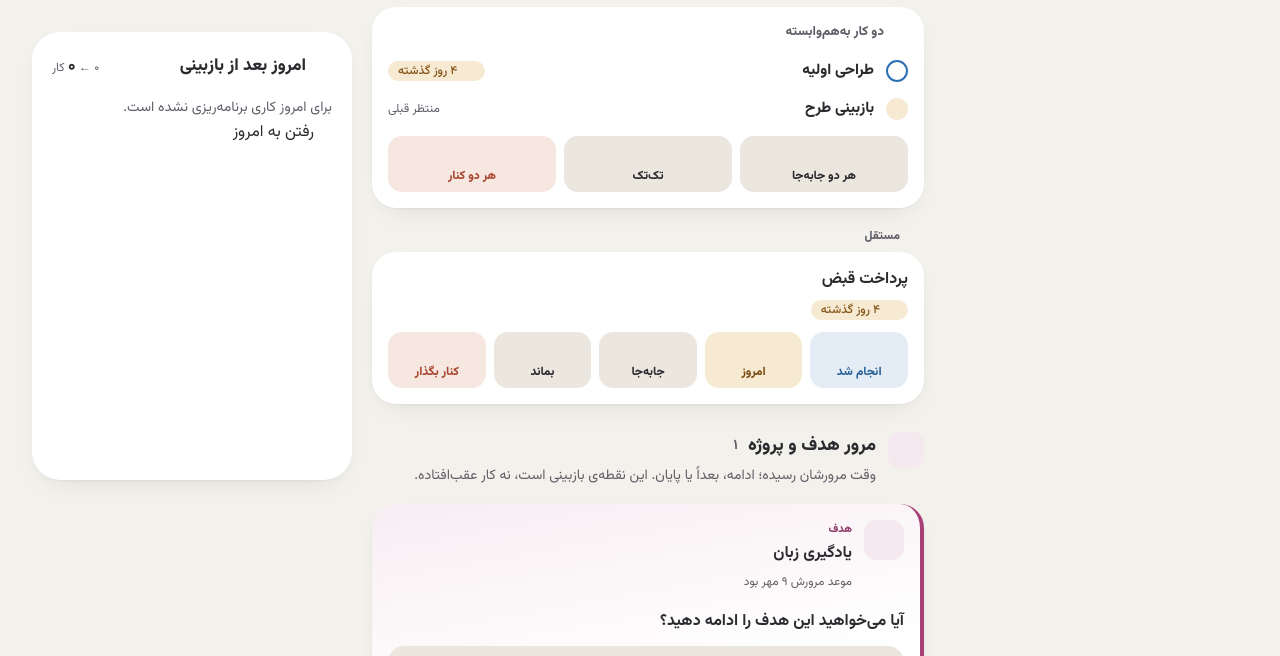
Test: ReconcilePage › applies «انجام شد» and «امروز» on the tap, keeps the item in place with its undo, and takes it back
(page scrolled)
Click the button with aria-label "انجام شد: پرداخت قبض". click: (859, 360)
box: left=810, top=332, right=908, bottom=388
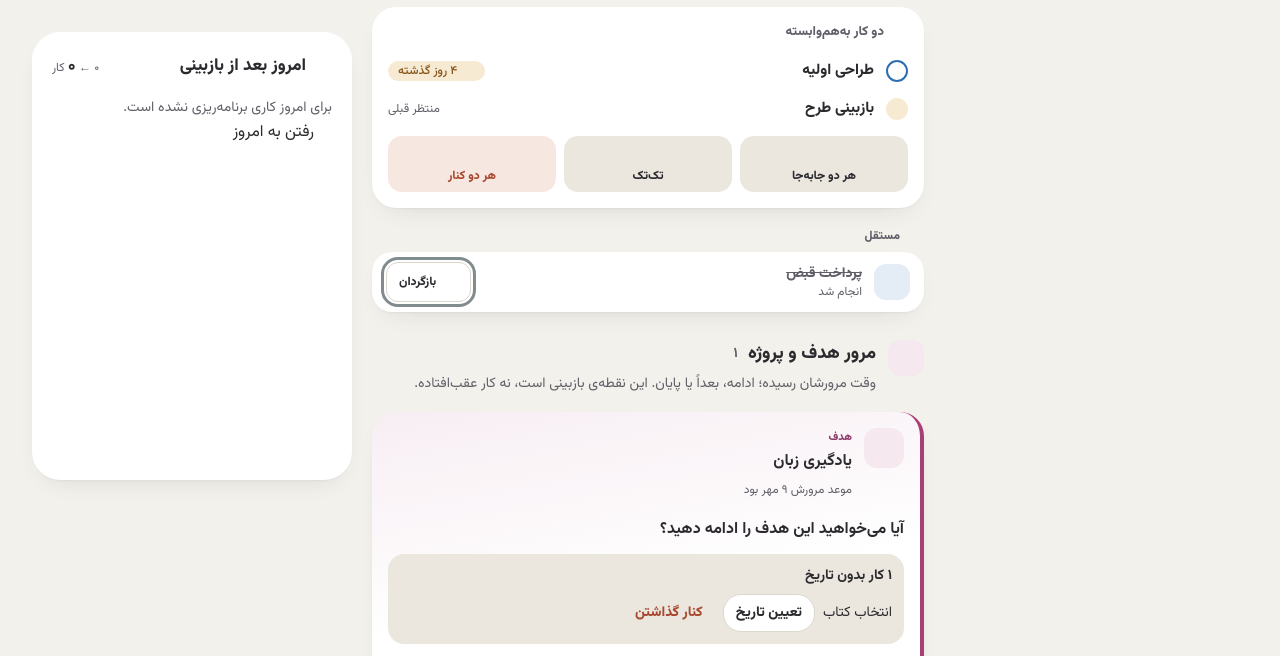
Click the button with aria-label "بازگردان: پرداخت قبض". click: (429, 282)
box: left=386, top=262, right=471, bottom=302
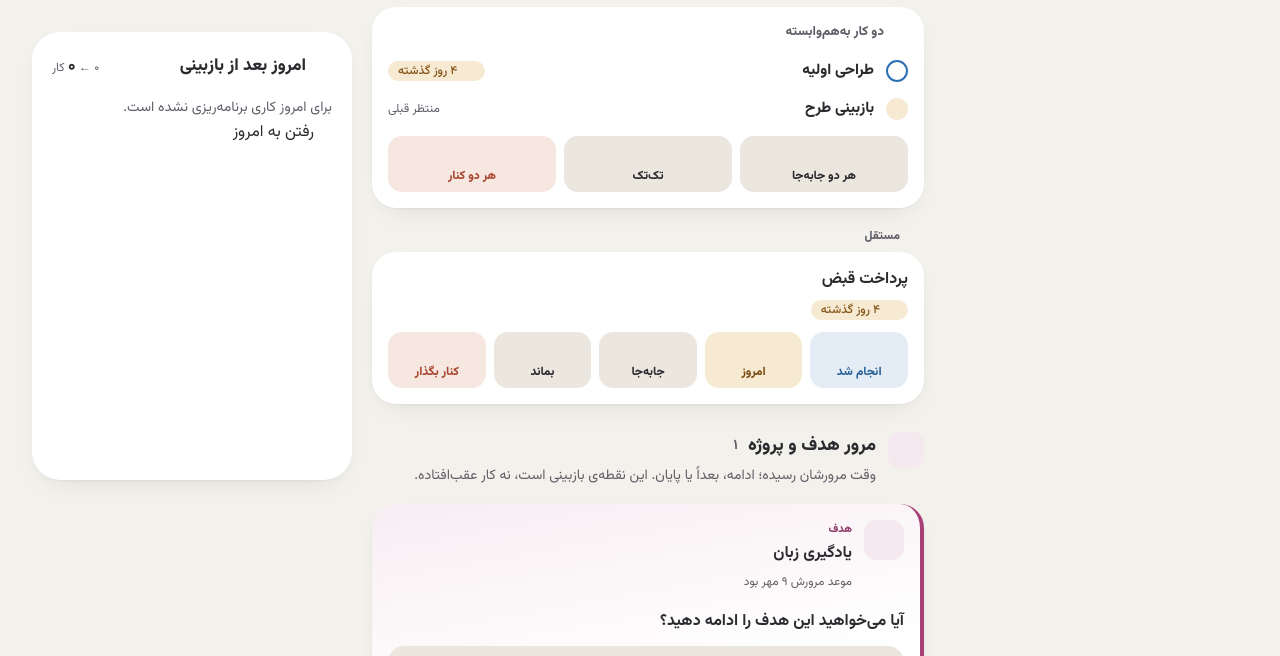
Now the button with aria-label "امروز: پرداخت قبض" is shown
Click the button with aria-label "امروز: پرداخت قبض". click: (754, 360)
box: left=705, top=332, right=802, bottom=388
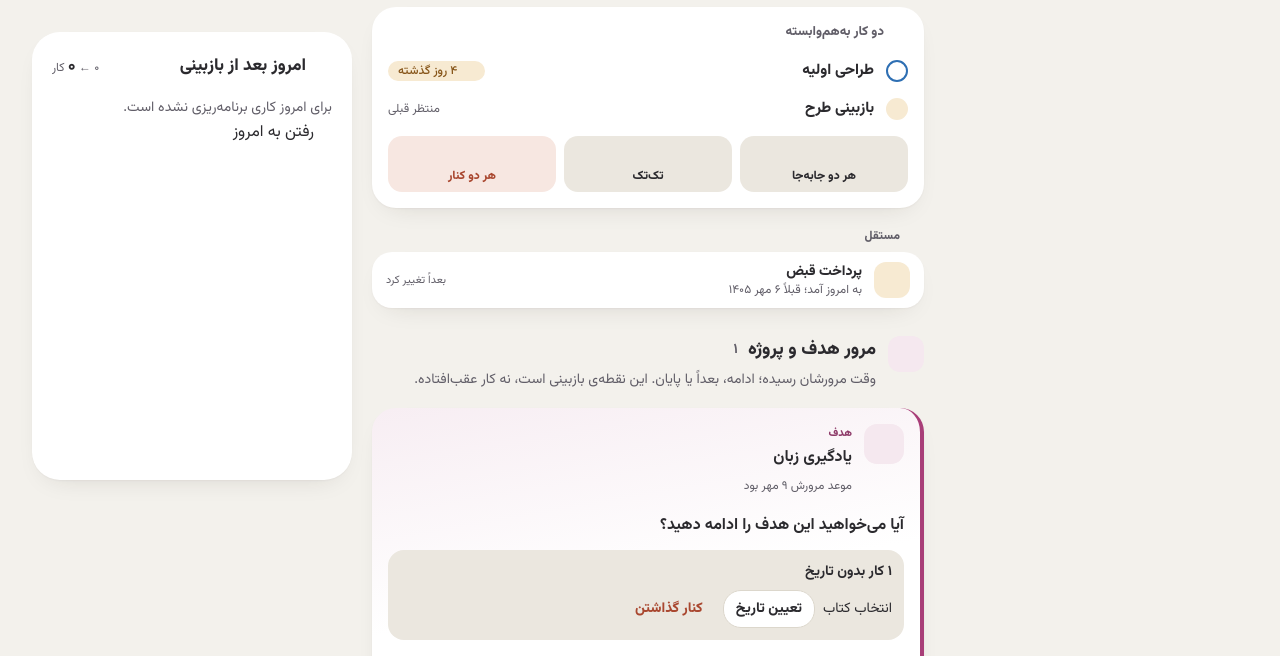
Expected: the button "بازگردان" is not shown
Now the text "بعداً تغییر کرد" is shown, box left=386, top=271, right=446, bottom=290
